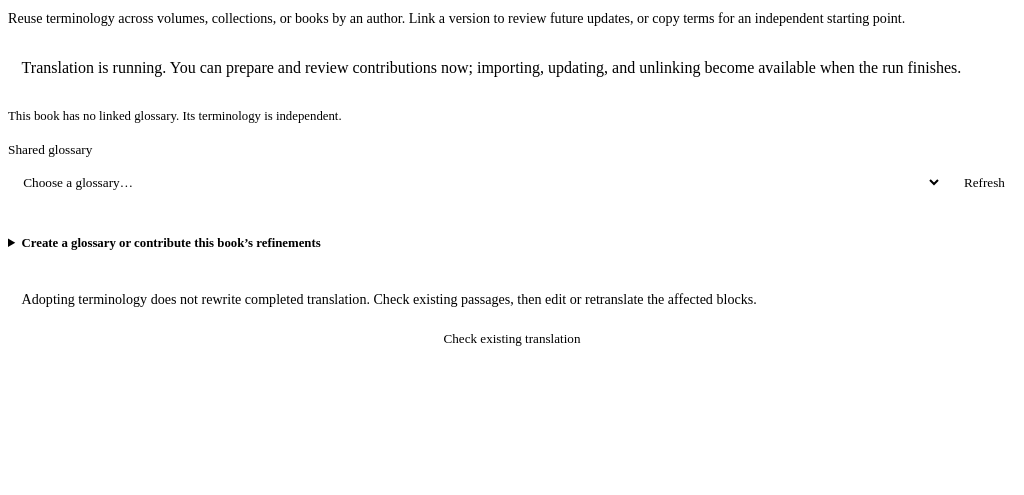
Test: shared glossary review › disables import during a translation run
Select "Collected essays · de → en · revision 2" in the dropdown labelled "Shared glossary" at (475, 183), box x1=8 y1=165 x2=942 y2=200
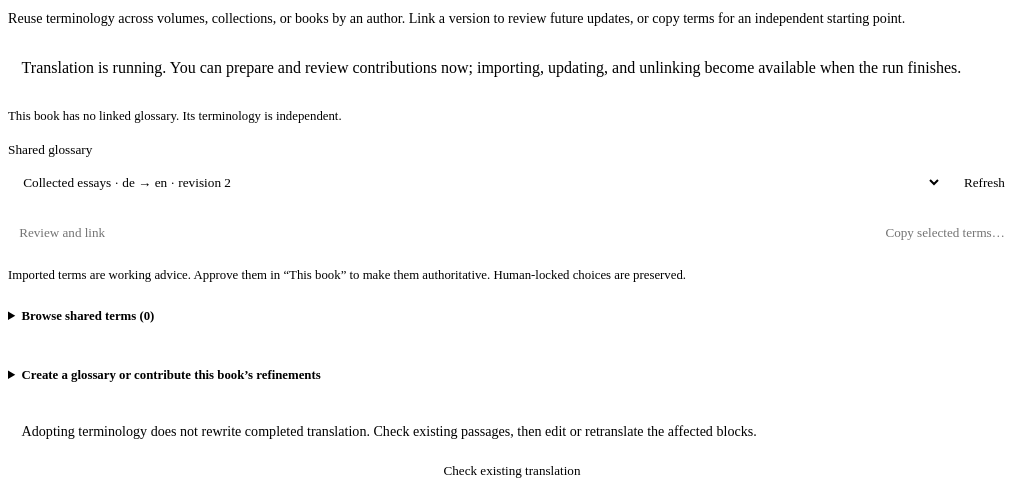
expect the button "Review and link" is disabled: met, box x1=8 y1=216 x2=116 y2=250
expect the button "Copy selected terms…" is disabled: met, box x1=874 y1=216 x2=1016 y2=250
